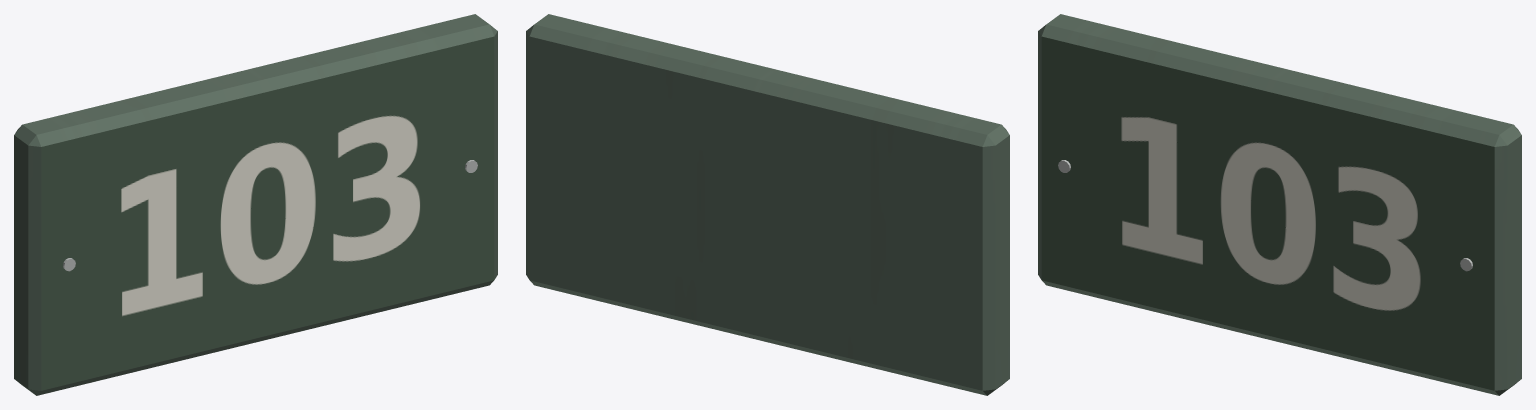
The model's file is room_number_103.glb.
3 renders of one model, left to right at view 1: azimuth 30°, elevation 25°; view 2: azimuth 150°, elevation 25°; view 3: azimuth 330°, elevation 25°, orthographic.
Visible parts, largest first — view 1: INSTANCE__room_number_plaque__018; view 2: INSTANCE__room_number_plaque__018; view 3: INSTANCE__room_number_plaque__018.
Boxes of the visible parts, x1=… form: INSTANCE__room_number_plaque__018: x1=14, y1=14, x2=497, y2=395; INSTANCE__room_number_plaque__018: x1=526, y1=14, x2=1009, y2=395; INSTANCE__room_number_plaque__018: x1=1038, y1=14, x2=1521, y2=395.
Size of the model in its own units: 0.32 by 0.17 by 0.0318.
Materials: 3 (2 with a texture image).
